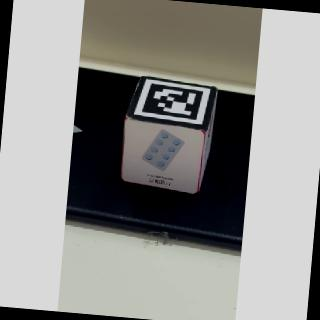Tablet: (120, 118, 210, 200)
